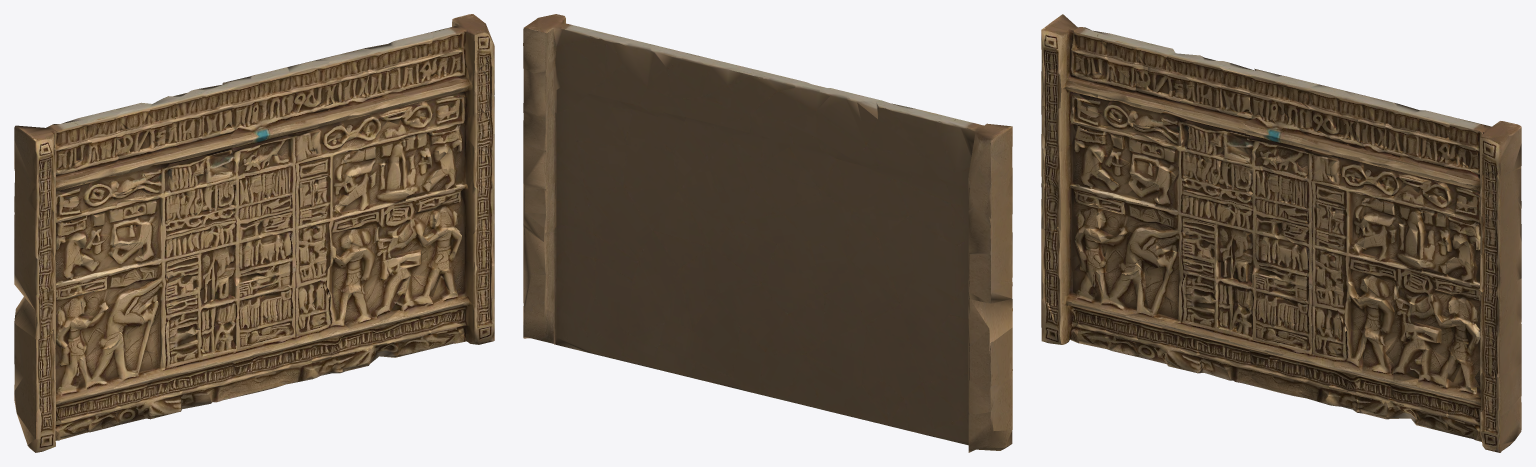
Rendered from wall_panel.glb.
3 renders of one model, left to right at view 1: azimuth 30°, elevation 25°; view 2: azimuth 150°, elevation 25°; view 3: azimuth 330°, elevation 25°, orthographic.
Size of the model in its own units: 1.91 by 1.24 by 0.1585.
1 material, 1 textured.
